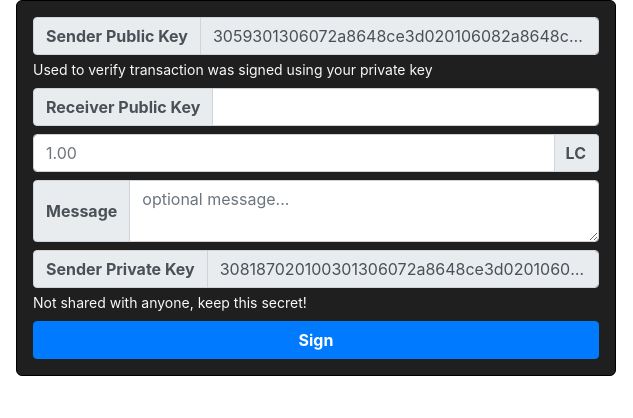
Test case: Amount checking › shows error when negative
In the number field named "Sign Amount": (294, 153) [33, 134, 555, 172], type "-0.1"
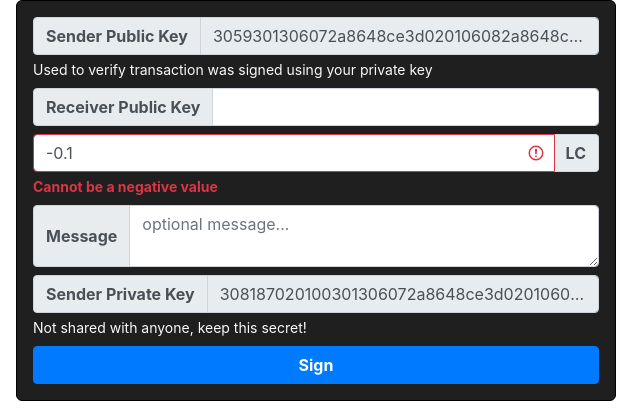
Expected: the message named "Amount Feedback" reads "Cannot be a negative value", [33, 178, 218, 195]
